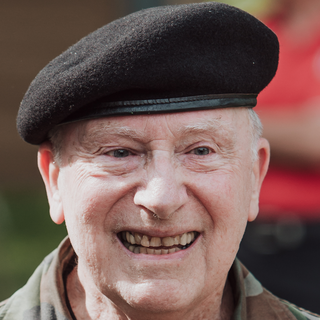eye: (95, 141, 147, 164), (176, 140, 224, 164)
